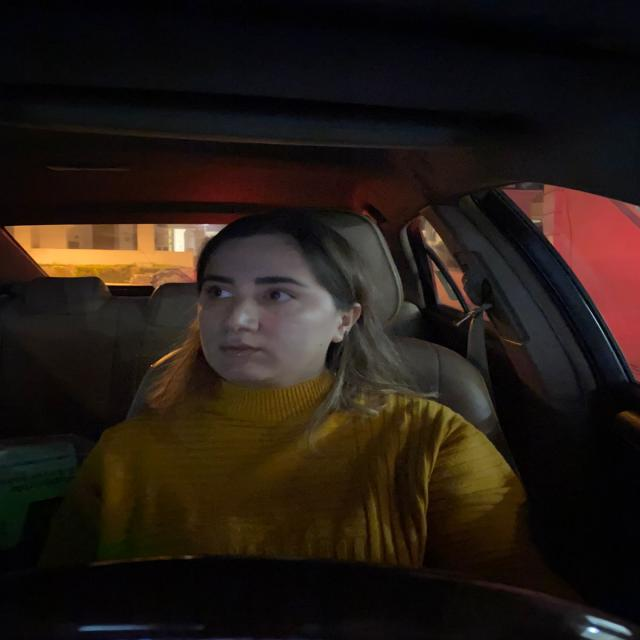person: (152, 219, 379, 388)
